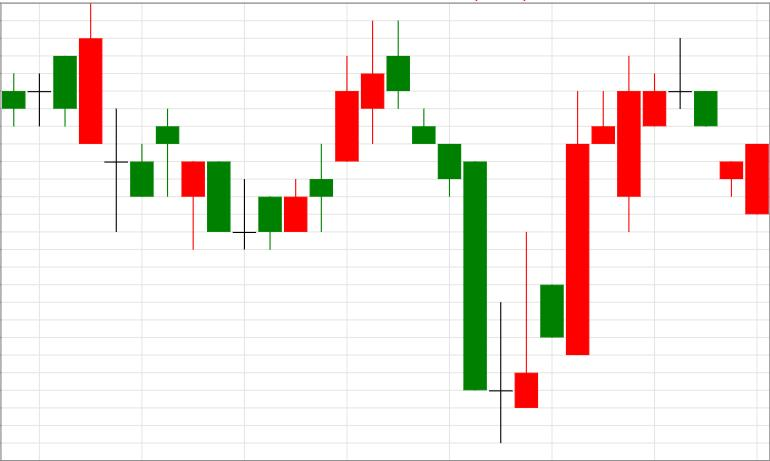evening_star_fall: (566, 39, 718, 355)
inverse_hammer_rise: (387, 21, 539, 443)
